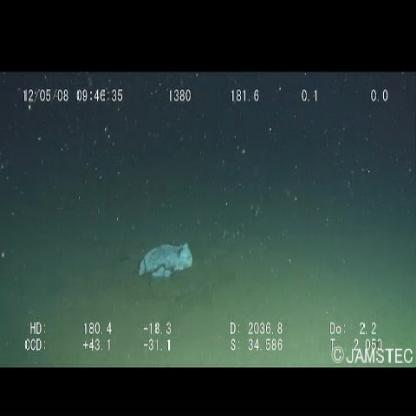Rác: (139, 244, 194, 280)
